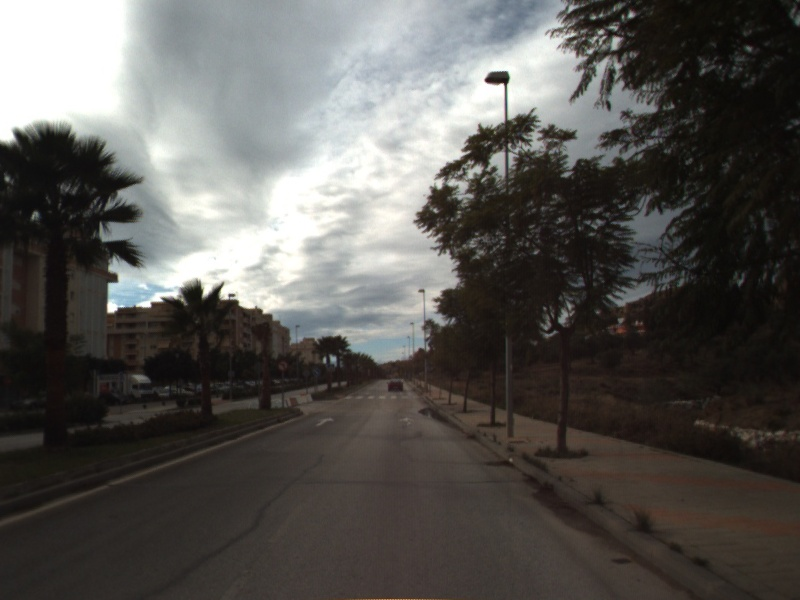STRAIGHT: (313, 415, 336, 429)
